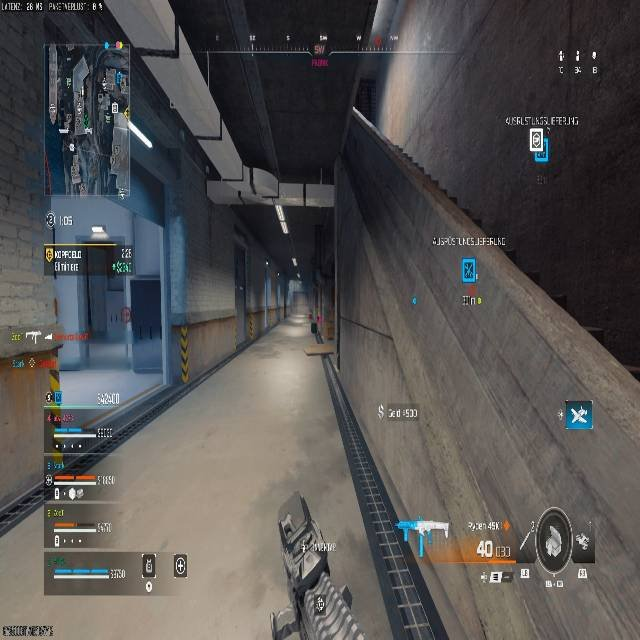player: (309, 312, 323, 344)
